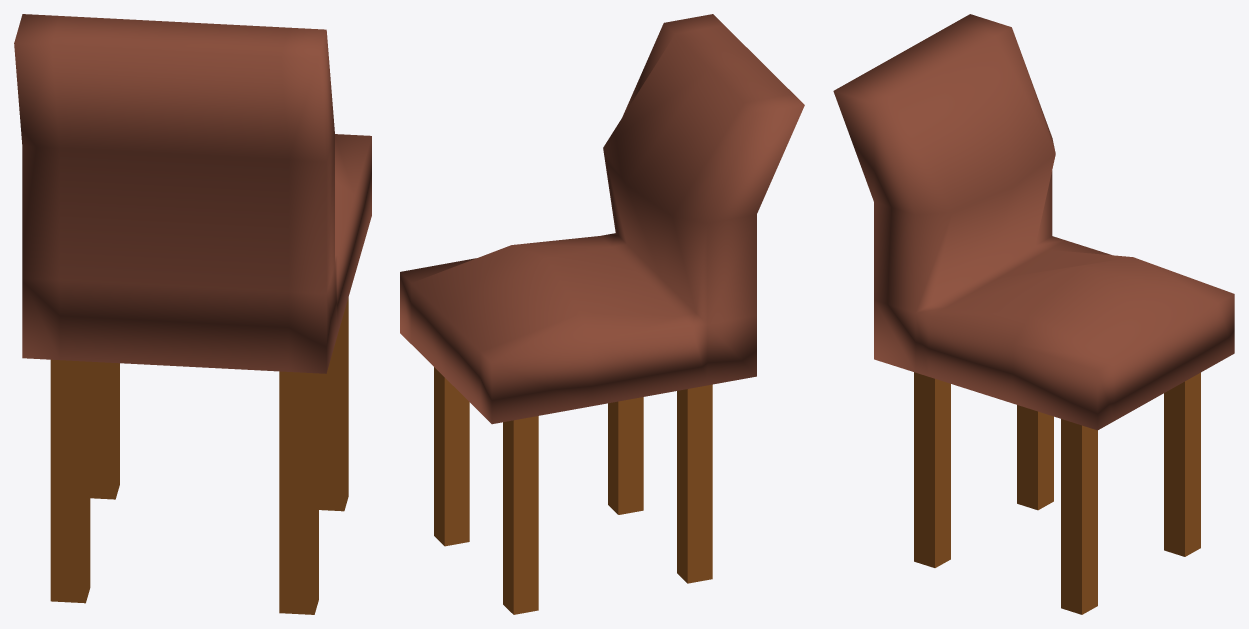
The model's file is obst2.fbx.
3 renders of one model, left to right at view 1: azimuth 30°, elevation 25°; view 2: azimuth 150°, elevation 25°; view 3: azimuth 270°, elevation 25°, orthographic. The views are drawn at different scales.
Parts seen in each view (by area): view 1: Cube.008; view 2: Cube.008; view 3: Cube.008.
Boxes of the visible parts, x1=… form: Cube.008: x1=14, y1=14, x2=371, y2=614; Cube.008: x1=400, y1=14, x2=804, y2=614; Cube.008: x1=833, y1=14, x2=1234, y2=614.
Bounding box in the file's own units: 93.69 × 123 × 98.72.
